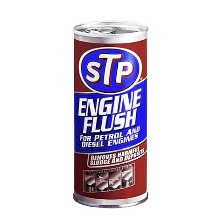cleaning_solution: (66, 18, 153, 211)
